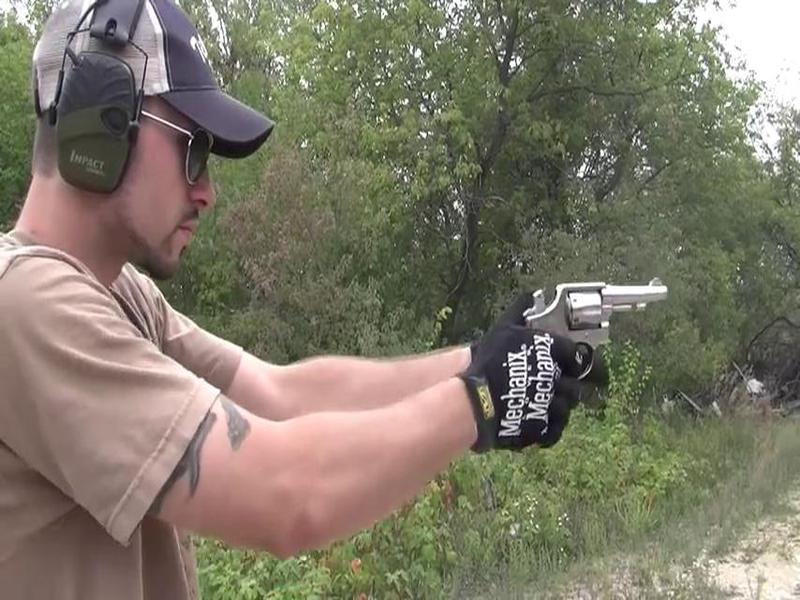Revolver: (522, 254, 686, 375)
